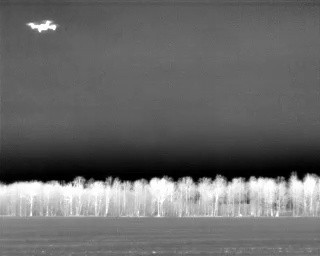DRONE: (23, 15, 63, 37)
